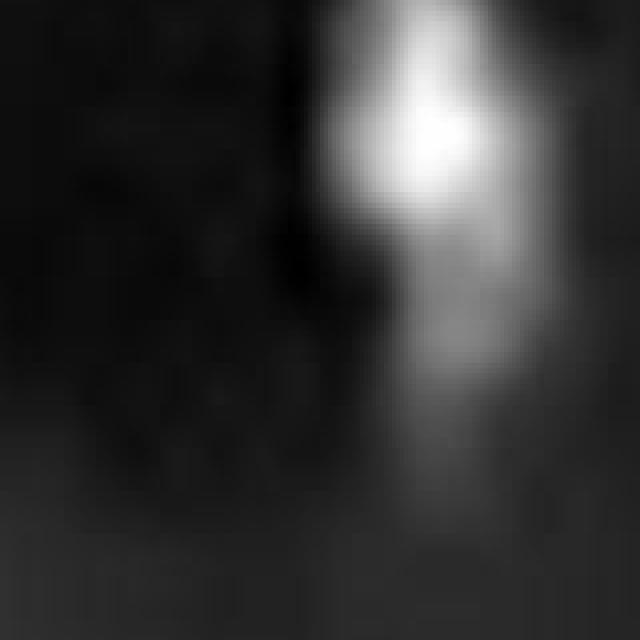person: (281, 1, 565, 497)
